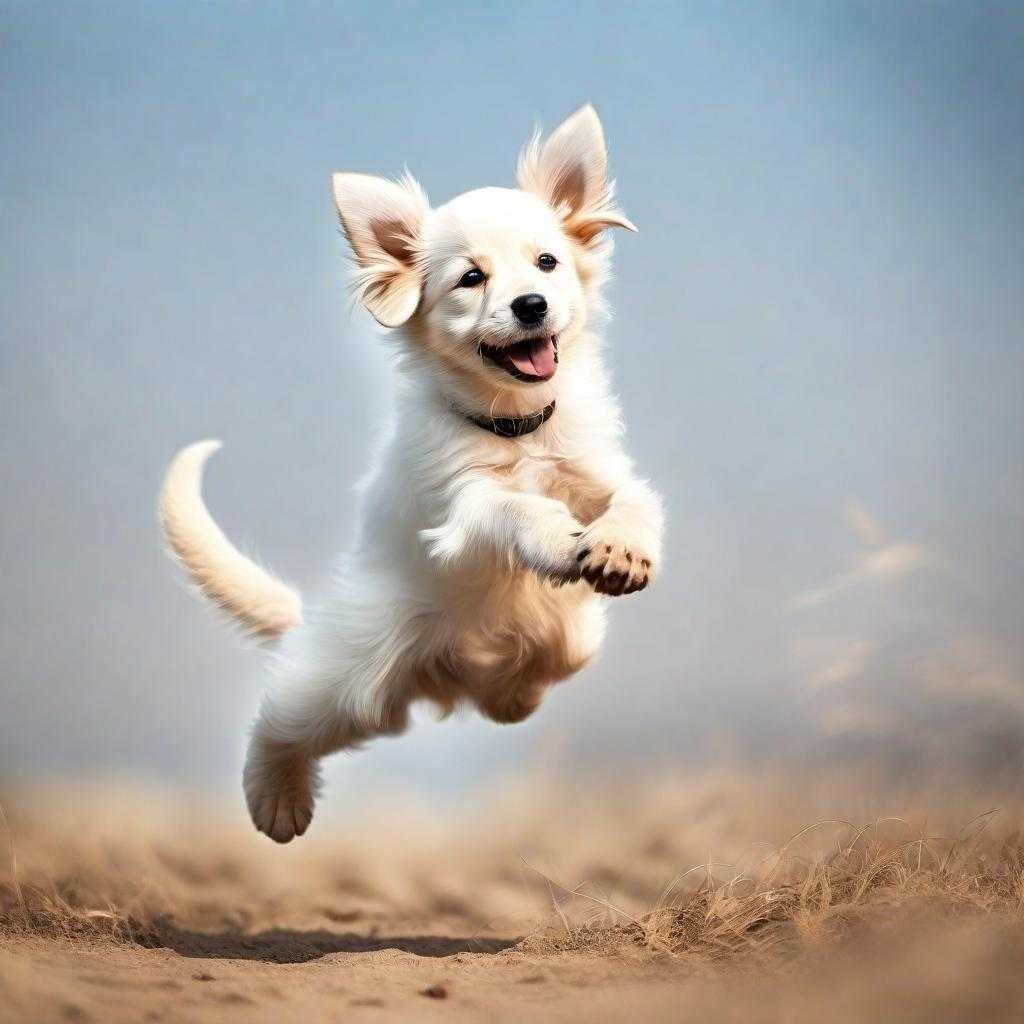puppy-dog: (154, 101, 668, 845)
